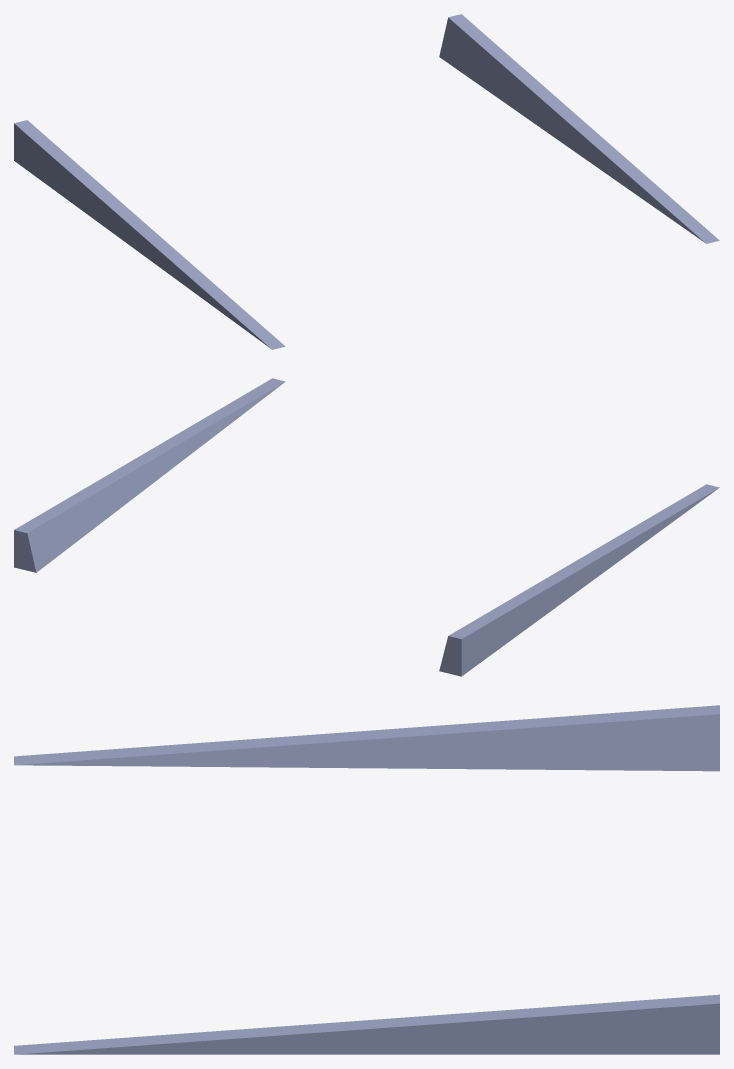
The model's file is road-straight-barrier-end.glb.
3 views of the same model, one above another, from view 1: azimuth 30°, elevation 25°; view 2: azimuth 150°, elevation 25°; view 3: azimuth 270°, elevation 25° (orthographic). The views are drawn at different scales.
Parts seen in each view (by area): view 1: road-straight-barrier-end; view 2: road-straight-barrier-end; view 3: road-straight-barrier-end.
Boxes of the visible parts, x1,y1,x2,y2 form: road-straight-barrier-end: [14, 14, 719, 349]; road-straight-barrier-end: [14, 378, 719, 676]; road-straight-barrier-end: [14, 705, 719, 1054].
Bounding box in the file's own units: 10 × 0.7996 × 10.
1 material, 1 textured.
